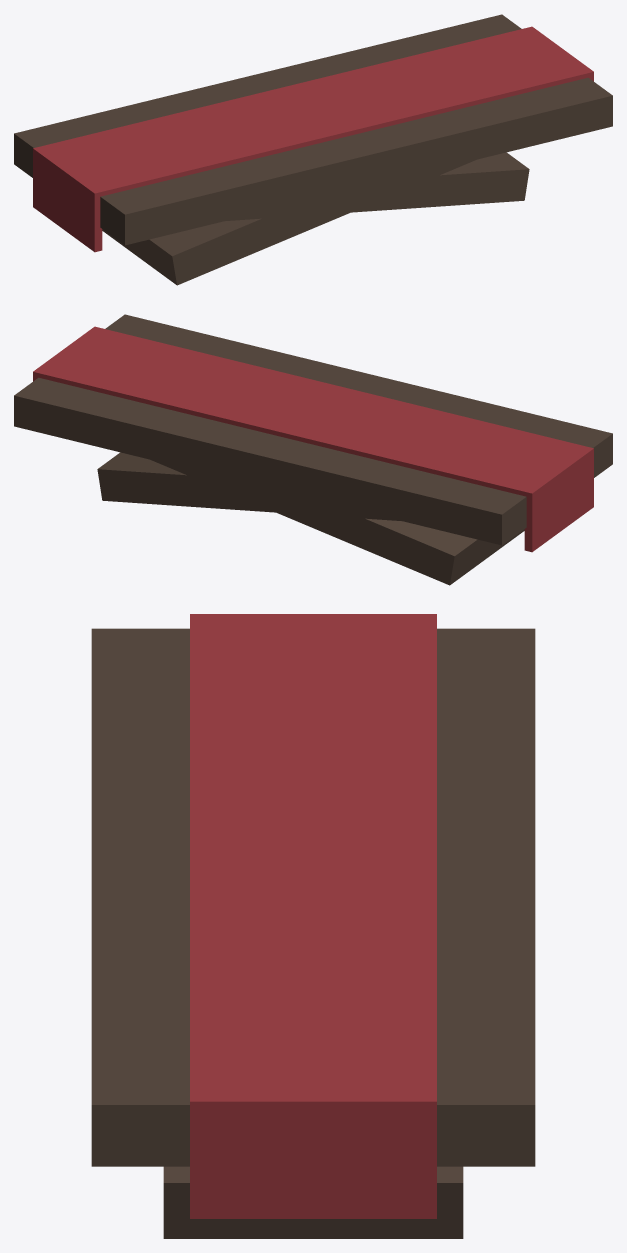
Rendered from Bench.fbx.
3 views of the same model, one above another, from view 1: azimuth 30°, elevation 25°; view 2: azimuth 150°, elevation 25°; view 3: azimuth 270°, elevation 25° (orthographic). The views are drawn at different scales.
Visible parts, largest first — view 1: Table; view 2: Table; view 3: Table.
Boxes of the visible parts, <box> form: Table: <box>14,14,612,285</box>; Table: <box>14,314,612,585</box>; Table: <box>91,614,535,1238</box>.
Bounding box in the file's own units: 3796 × 768 × 1461.
